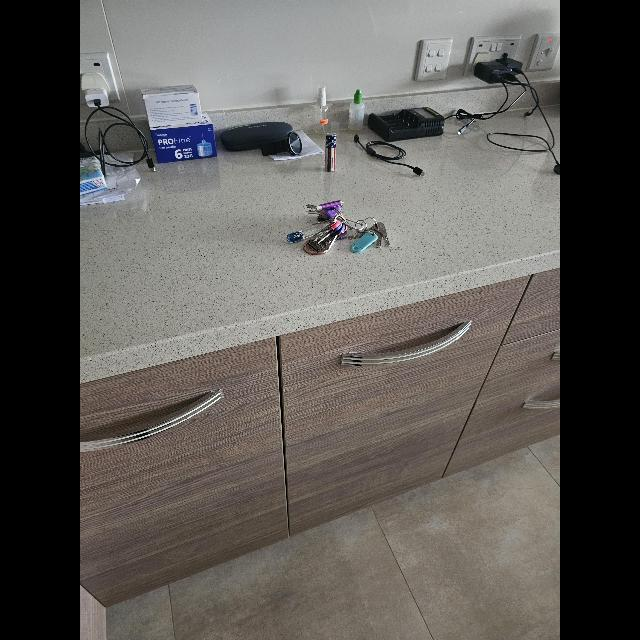Keys: (288, 200, 389, 253)
